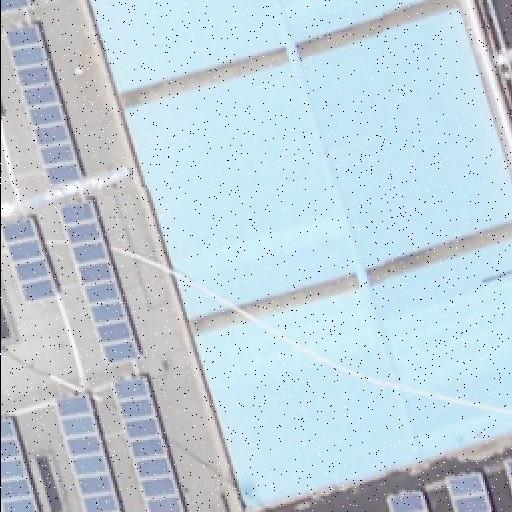solar-panel: (58, 198, 142, 366), (3, 20, 85, 188), (109, 372, 187, 512), (53, 390, 123, 512), (0, 223, 60, 305), (0, 417, 40, 511), (442, 472, 494, 512), (386, 496, 430, 512), (0, 1, 32, 15), (504, 458, 512, 486)
